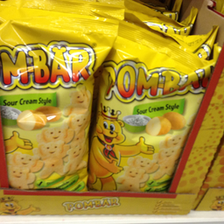chips: (1, 16, 119, 192), (90, 29, 215, 190)
